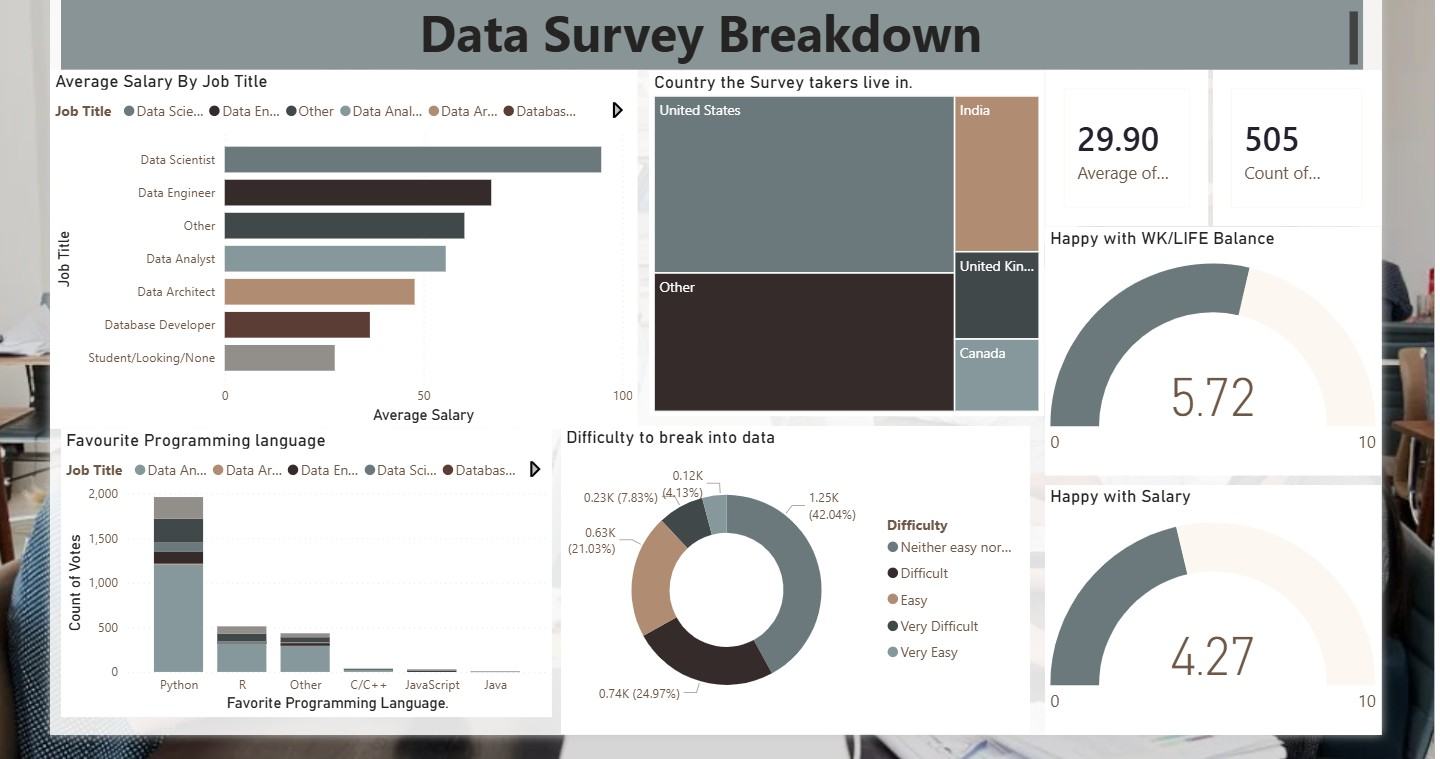

Layout of this report page (visuals, bound fields, positions):
{"tool":"powerbi","page":{"name":"Page 1","canvas":[1280,720],"ordinal":0},"visuals":[{"type":"textbox","box":[10.6,13.5,1251.9,67.3],"z":1000},{"type":"cardVisual","fields":{"Data":["Count(Data Professional Survey.Unique ID)"]},"box":[1117.9,80.8,161.5,150],"z":2000},{"type":"cardVisual","fields":{"Data":["Avg(Data Professional Survey.Q10 - Current Age)"]},"box":[957.7,80.8,156.4,150],"z":3000},{"type":"barChart","title":"Average  Salary By Job Title ","fields":{"Category":["Data Professional Survey.Q1 - Which Title Best Fits your Current Role?.1"],"Y":["Avg(Data Professional Survey.Average Salaries )"],"Series":["Data Professional Survey.Q1 - Which Title Best Fits your Current Role?.1"]},"box":[0,80.8,565.4,344.9],"z":4000},{"type":"columnChart","title":"Favourite Programming language ","fields":{"Category":["Data Professional Survey.Q5 - Favorite Programming Language.1"],"Y":["CountNonNull(Data Professional Survey.Unique ID)"],"Series":["Data Professional Survey.Q1 - Which Title Best Fits your Current Role?.1"]},"box":[10.3,425.6,471.8,276.9],"z":5000},{"type":"treemap","title":"Country the Survey takers live in.","fields":{"Group":["Data Professional Survey.Q11 - Which Country do you live in?.1"],"Values":["CountNonNull(Data Professional Survey.Q11 - Which Country do you live in?.1)"]},"box":[576,81.2,380.2,332.3],"z":6000},{"type":"gauge","title":"Happy with WK/LIFE Balance ","fields":{"Y":["Avg(Data Professional Survey.Q6 - How Happy are you in your Current Position with the following? (Work/Life Balance))"],"MinValue":["Min(Data Professional Survey.Q6 - How Happy are you in your Current Position with the following? (Work/Life Balance))1"],"MaxValue":["Max(Data Professional Survey.Q6 - How Happy are you in your Current Position with the following? (Work/Life Balance))2"]},"box":[956.2,231.2,322.9,238.5],"z":7000},{"type":"gauge","title":"Happy with Salary","fields":{"Y":["Avg(Data Professional Survey.Q6 - How Happy are you in your Current Position with the following? (Salary))"],"MinValue":["Min(Data Professional Survey.Q6 - How Happy are you in your Current Position with the following? (Salary))1"],"MaxValue":["Max(Data Professional Survey.Q6 - How Happy are you in your Current Position with the following? (Salary))2"]},"box":[956.2,480.2,322.9,240.6],"z":8000},{"type":"donutChart","title":"Difficulty to break into data ","fields":{"Category":["Data Professional Survey.Q7 - How difficult was it for you to break into Data?"],"Y":["CountNonNull(Data Professional Survey.Q7 - How difficult was it for you to break into Data?)"]},"box":[491,423.1,451.3,296.2],"z":9000}]}

Visuals, with their boxes on the page's 1280x720 design canvas (x1, y1, x2, y2). These are canvas units, not pixel positions in the 1440x759 screenshot, which may show the page scaled, cropped or inside an application window:
textbox: x1=11 y1=14 x2=1262 y2=81
cardVisual - Count(Data Professional Survey.Unique ID): x1=1118 y1=81 x2=1279 y2=231
cardVisual - Avg(Data Professional Survey.Q10 - Current Age): x1=958 y1=81 x2=1114 y2=231
"Average  Salary By Job Title " barChart: x1=0 y1=81 x2=565 y2=426
"Favourite Programming language " columnChart: x1=10 y1=426 x2=482 y2=702
"Country the Survey takers live in." treemap: x1=576 y1=81 x2=956 y2=414
"Happy with WK/LIFE Balance " gauge: x1=956 y1=231 x2=1279 y2=470
"Happy with Salary" gauge: x1=956 y1=480 x2=1279 y2=721
"Difficulty to break into data " donutChart: x1=491 y1=423 x2=942 y2=719
